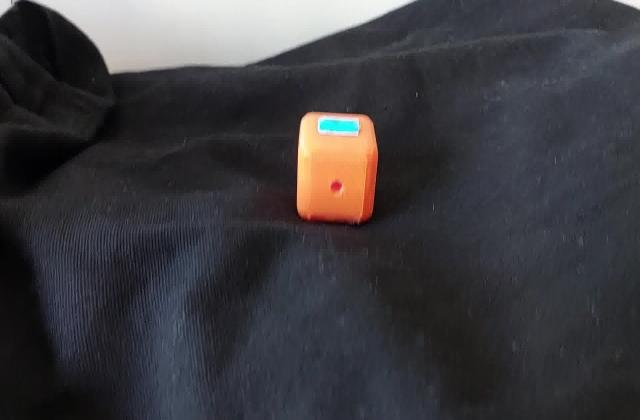blue: (323, 120, 357, 130)
cube: (292, 107, 379, 230)
